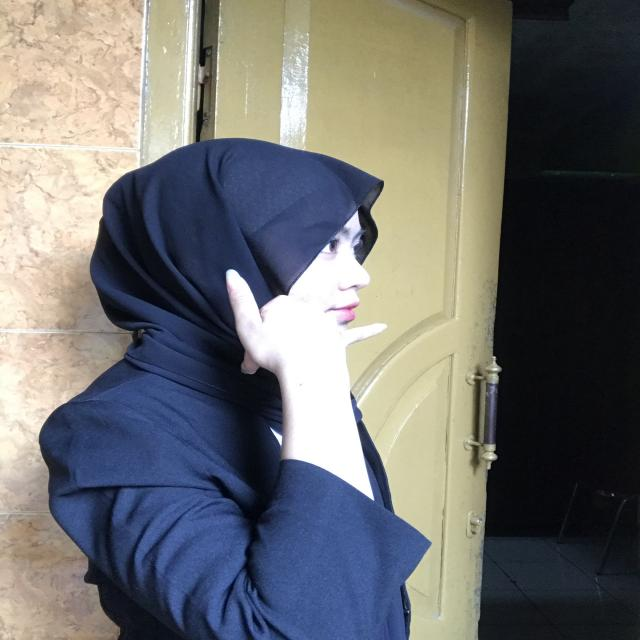telpon: (190, 246, 417, 394)
